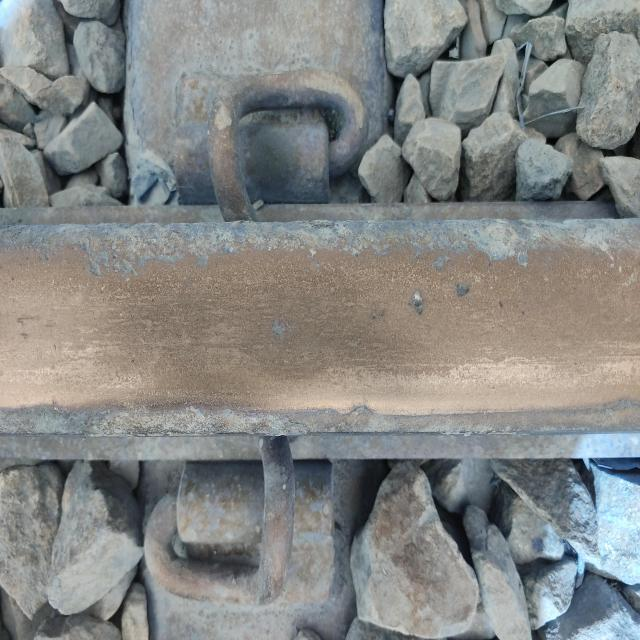Good Fasteners: (130, 428, 376, 630), (161, 45, 367, 218)
